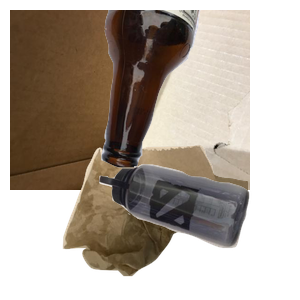cardboard: (10, 10, 250, 190)
glass: (99, 10, 300, 170)
plastic: (97, 162, 300, 300)
trash: (60, 142, 300, 300)
